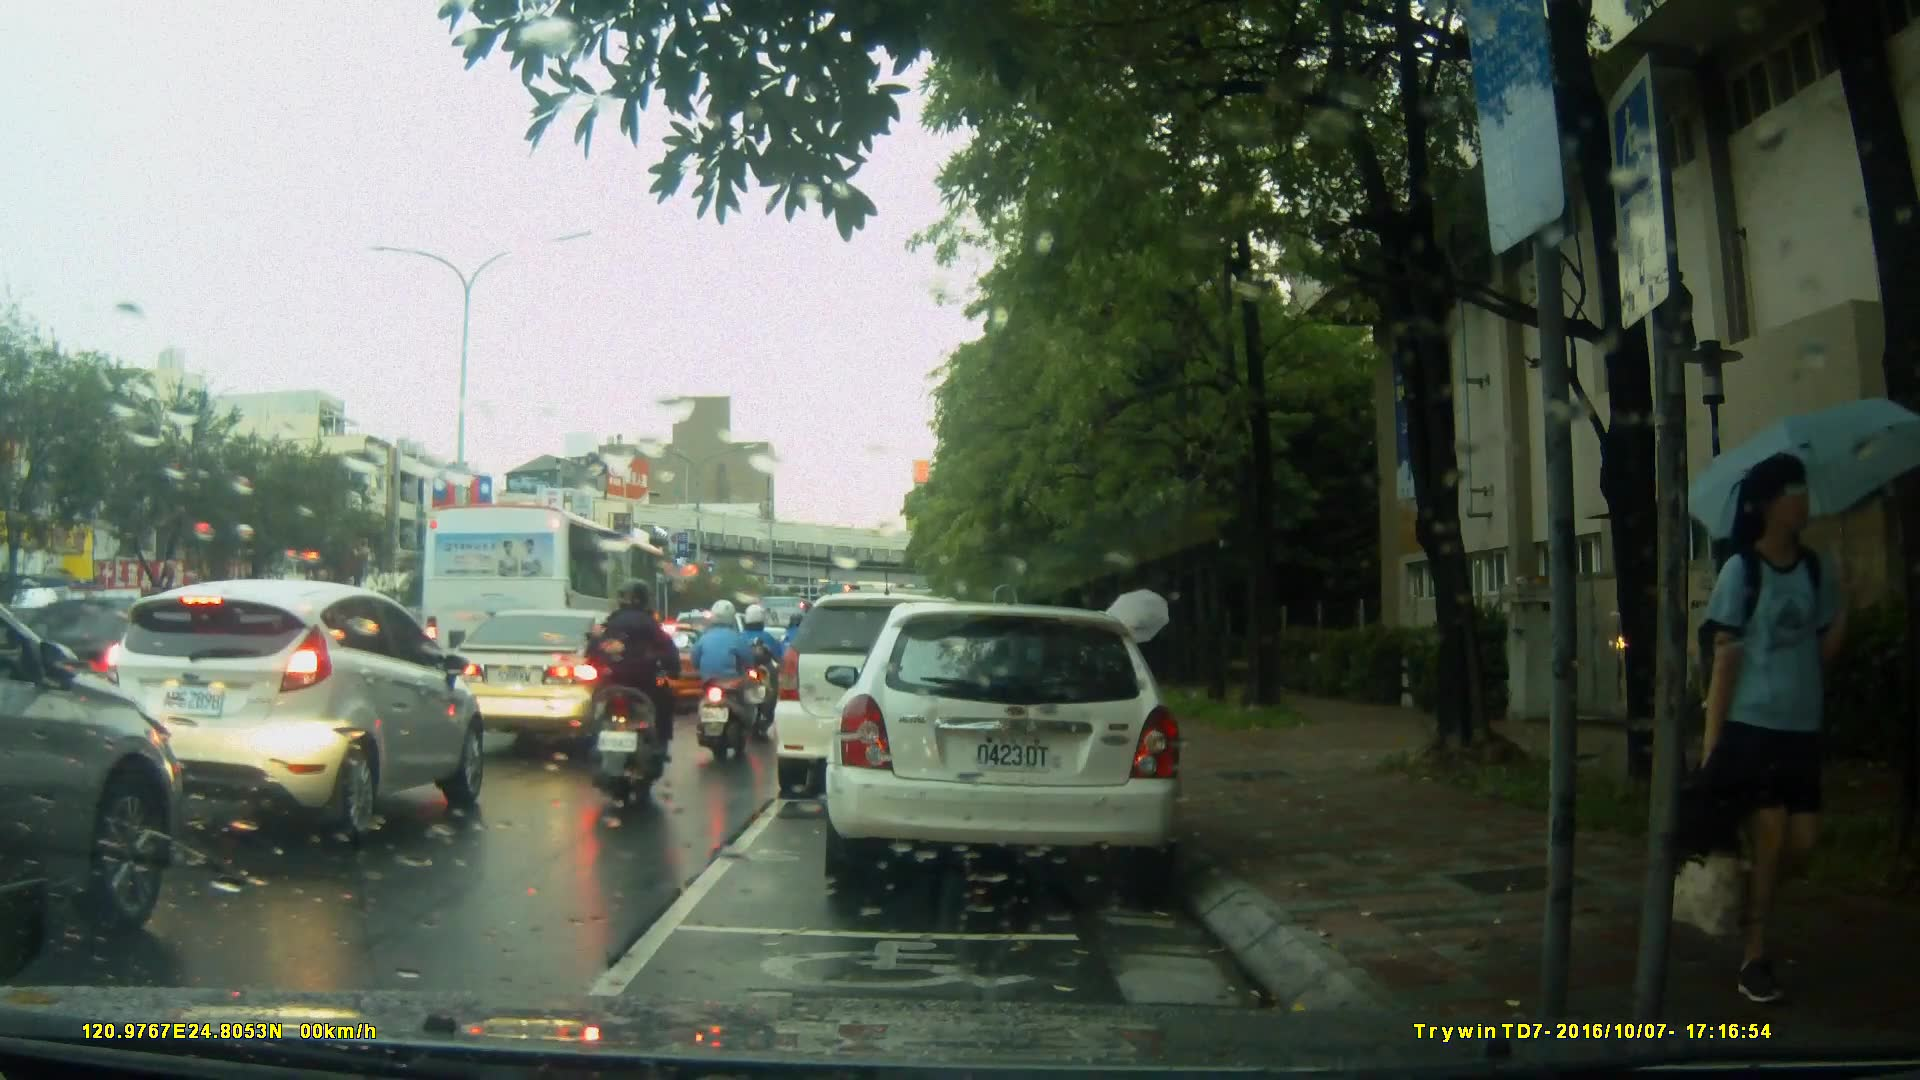pedestrian: (1659, 451, 1815, 1001)
rider: (588, 574, 687, 804), (692, 598, 749, 761), (741, 600, 789, 746), (779, 610, 820, 719)
vehicle: (835, 594, 1194, 898), (101, 577, 489, 846), (1, 547, 184, 971), (417, 500, 675, 717), (776, 590, 1026, 784), (439, 607, 673, 756), (620, 622, 728, 711)
